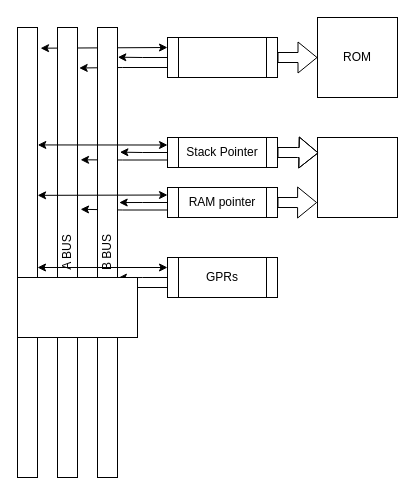
Some shapes in this 415 by 495 pixel diagram are drawn without their labels. Here are the shapes that lost their labels. From the top down, the centre of each, then its label:
At [222,57]: "Program Counter".
At [357,177]: "RAM".
At [27,252]: "MAIN BUS".
